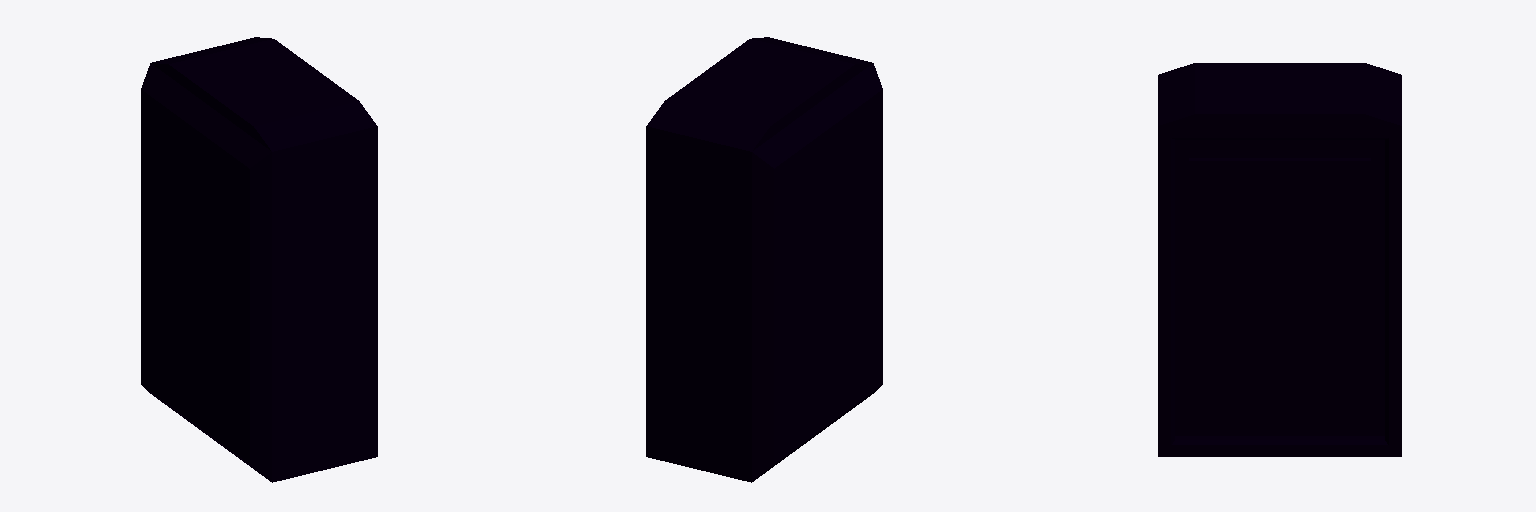
File: Keypad Backplate.obj
The picture shows the model from 3 angles: view 1: azimuth 30°, elevation 25°; view 2: azimuth 150°, elevation 25°; view 3: azimuth 270°, elevation 25°; orthographic projection.
Parts seen in each view (by area): view 1: Cube; view 2: Cube; view 3: Cube.
Boxes of the visible parts, <box> form: Cube: <box>141,37,377,482</box>; Cube: <box>646,37,882,482</box>; Cube: <box>1158,63,1401,456</box>.
Size of the model in its own units: 2.3 by 6.21 by 4.